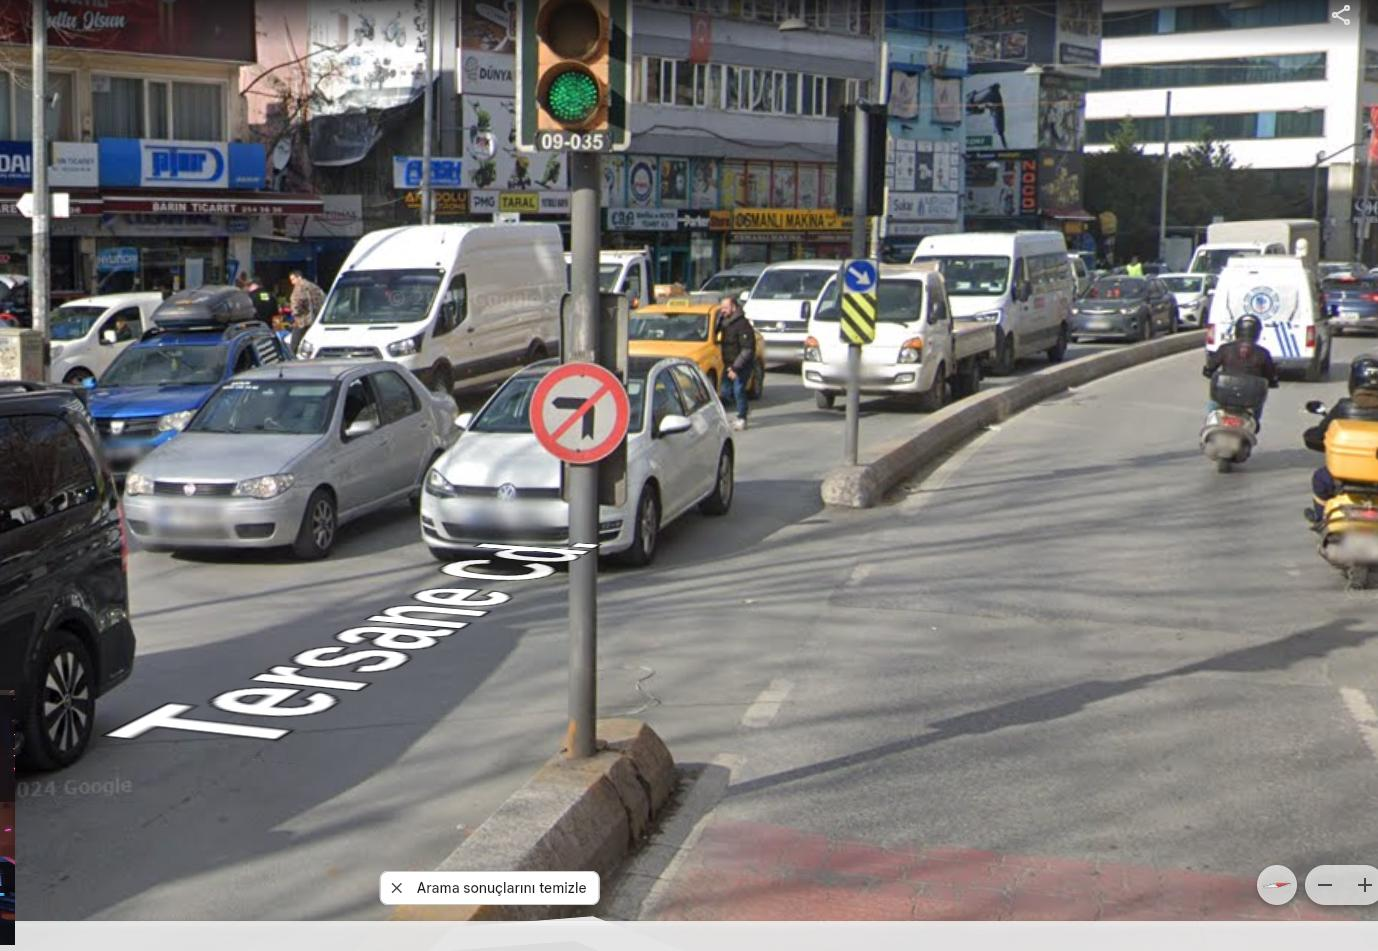greenlight: (518, 12, 621, 149)
leftturnsareforbidden: (535, 364, 621, 468)
